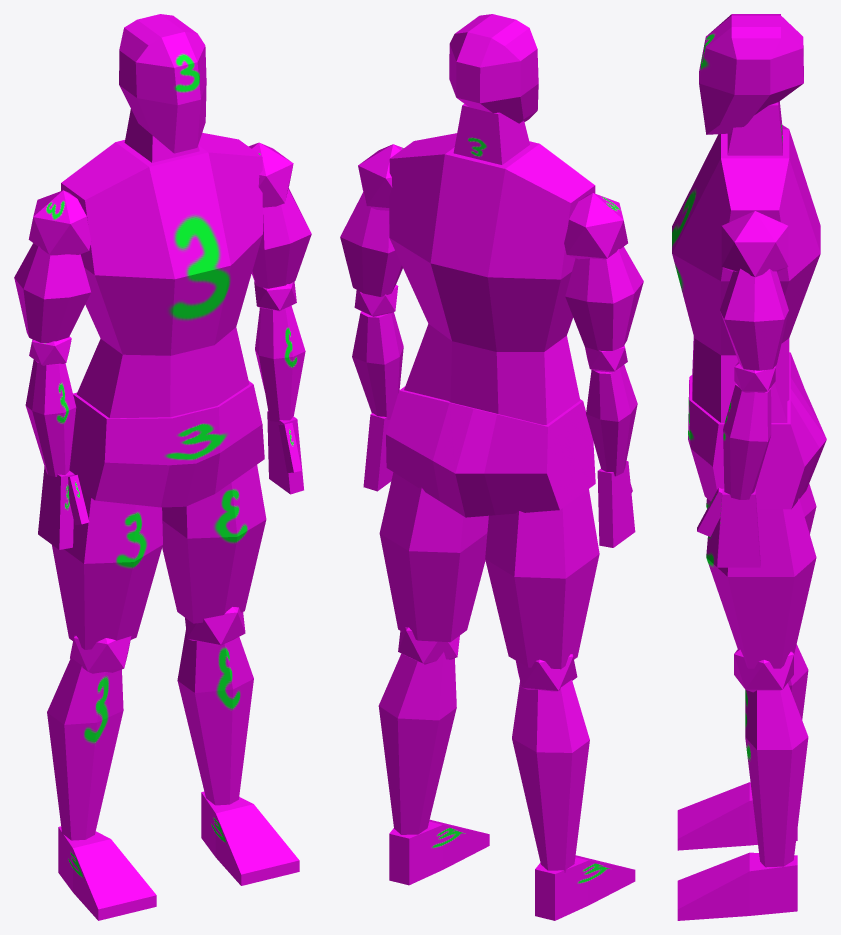
File: EnemySpawn3.fbx
3 views of the same model, side by side, from view 1: azimuth 30°, elevation 25°; view 2: azimuth 150°, elevation 25°; view 3: azimuth 270°, elevation 25° (orthographic). The views are drawn at different scales.
Visible parts, largest first — view 1: Character_Cube.001; view 2: Character_Cube.001; view 3: Character_Cube.001.
Part boxes in pixels (x1,y1,x2,y2): Character_Cube.001: (14, 14, 311, 920); Character_Cube.001: (340, 14, 643, 920); Character_Cube.001: (672, 14, 826, 920).
Size of the model in its own units: 1.1 by 3.18 by 0.525.
Materials: 1 (1 with a texture image).
